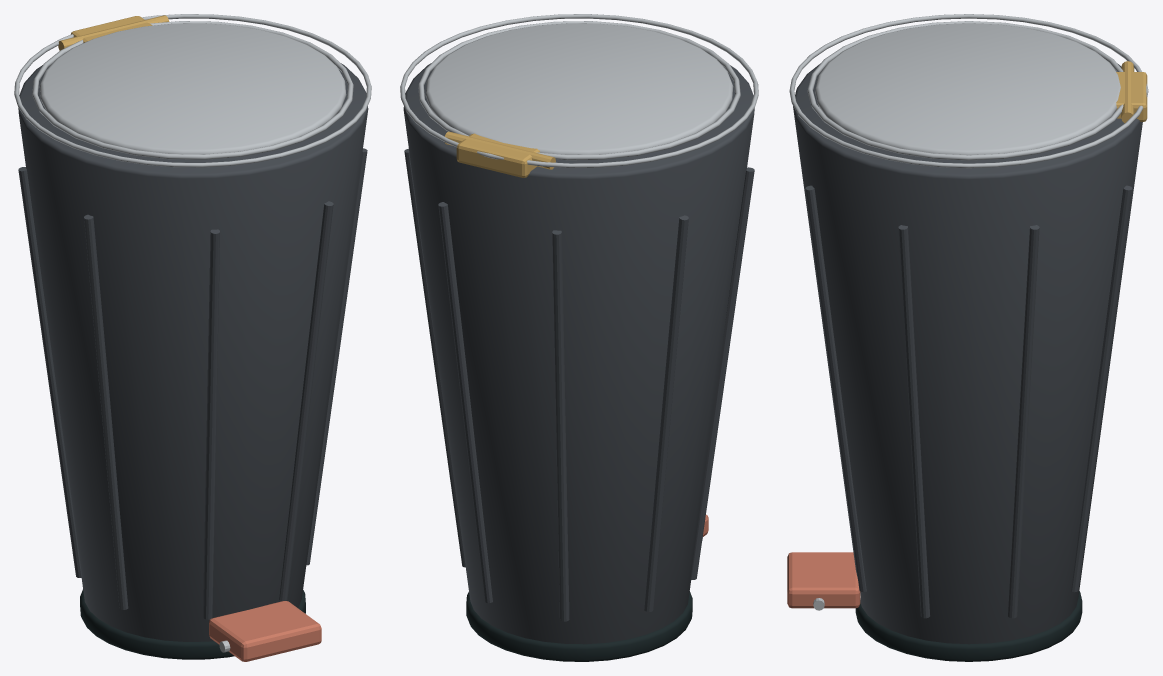
The model's file is rubbish_bin.glb.
3 views of the same model, side by side, from view 1: azimuth 30°, elevation 25°; view 2: azimuth 150°, elevation 25°; view 3: azimuth 270°, elevation 25° (orthographic).
Visible parts, largest first — view 1: Bin body, Bin lid, Bin pedal, Bin rib.002, Bin rib.003, Bin rib.001, Bin rim lip, Bin liner ring, Bin rib.004, Bin base rim, Bin rib, Bin hinge boss (+1 smaller); view 2: Bin body, Bin lid, Bin base rim, Bin rim lip, Bin rib.005, Bin rib.004, Bin rib.006, Bin rib.003, Bin liner ring, Bin hinge boss, Bin rib.007, Bin hinge pin; view 3: Bin body, Bin lid, Bin base rim, Bin rim lip, Bin rib, Bin rib.007, Bin pedal, Bin rib.001, Bin rib.006, Bin liner ring, Bin hinge boss.
Part boxes in pixels (x1,y1,x2,y2): Bin body: (18,63,368,641); Bin lid: (39,23,346,154); Bin pedal: (209,601,321,661); Bin rib.002: (203,229,219,619); Bin rib.003: (84,214,128,609); Bin rib.001: (279,201,333,600); Bin rim lip: (14,14,371,167); Bin liner ring: (32,21,353,159); Bin rib.004: (18,167,82,577); Bin base rim: (80,589,305,659); Bin rib: (306,148,367,565); Bin hinge boss: (71,16,152,42); Bin body: (403,63,754,644); Bin lid: (425,23,733,154); Bin base rim: (466,591,692,661); Bin rim lip: (400,14,758,167); Bin rib.005: (552,230,569,621); Bin rib.004: (644,215,688,611); Bin rib.006: (438,202,492,603); Bin rib.003: (690,167,754,579); Bin liner ring: (418,21,740,160); Bin hinge boss: (456,133,539,177); Bin rib.007: (404,148,465,567); Bin hinge pin: (444,131,555,169); Bin body: (793,63,1142,644); Bin lid: (815,23,1120,155); Bin base rim: (855,591,1082,661); Bin rim lip: (789,14,1148,168); Bin rib: (898,225,930,618); Bin rib.007: (1008,225,1039,618); Bin pedal: (787,552,860,608); Bin rib.001: (805,185,866,592); Bin rib.006: (1071,185,1132,592); Bin liner ring: (807,21,1123,160); Bin hinge boss: (1116,72,1147,121).
Size of the model in its own units: 0.443 by 0.72 by 0.4455.
